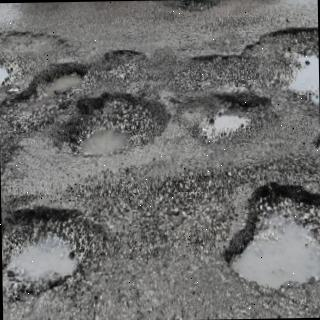pothole: (188, 27, 319, 104), (225, 183, 320, 289), (0, 62, 87, 175), (1, 207, 87, 299), (60, 93, 171, 156), (0, 32, 72, 97), (178, 94, 269, 142)
